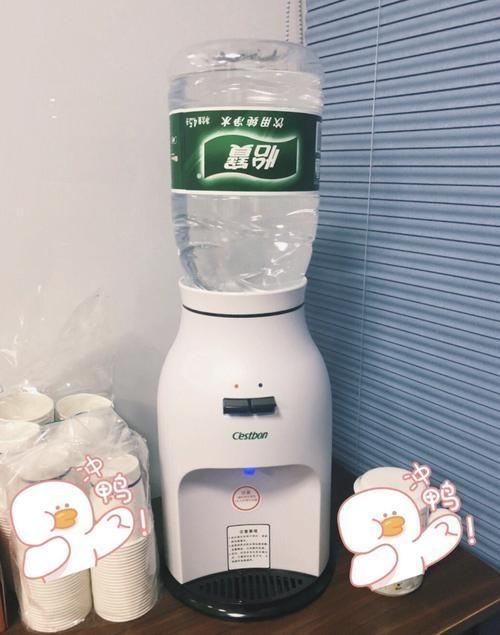Dispenser: (154, 40, 332, 621)
